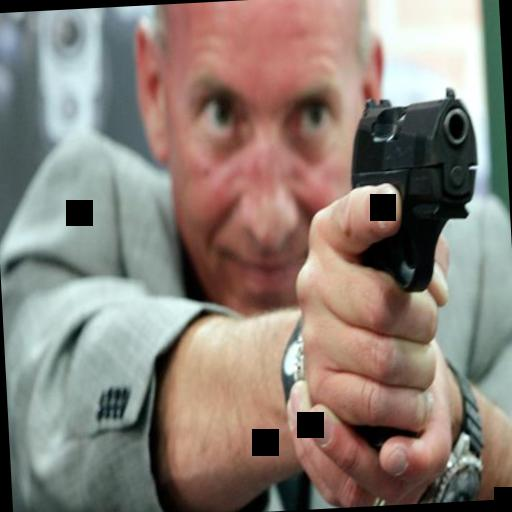Handgun: (306, 89, 491, 330)
